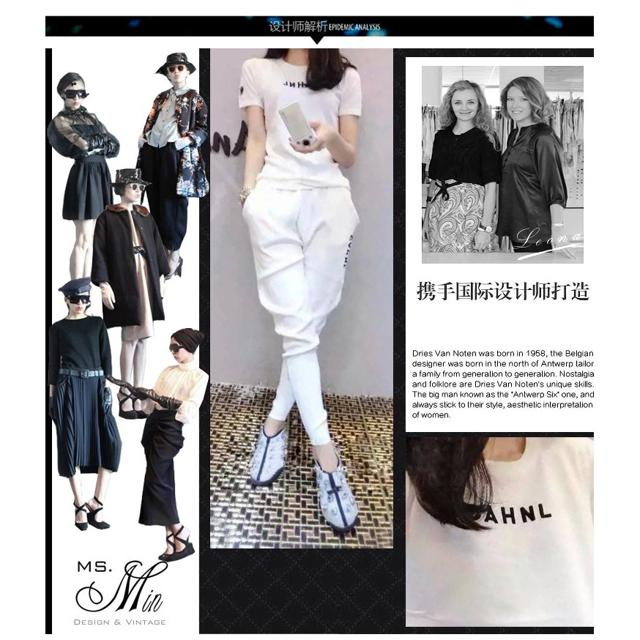Pants_Leggings: (245, 187, 358, 446)
